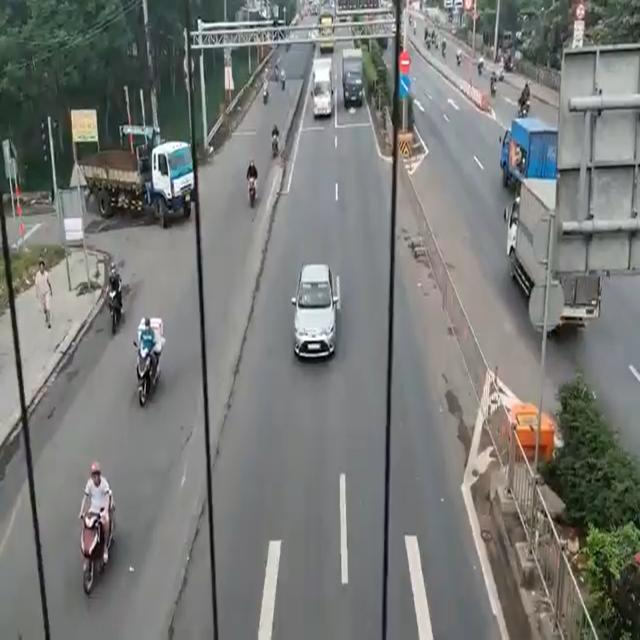car: (297, 252, 328, 361)
motor: (69, 473, 119, 597), (136, 320, 159, 412), (240, 149, 260, 219), (112, 254, 122, 334), (272, 121, 280, 165)
truck: (77, 123, 192, 239), (512, 180, 590, 324), (507, 115, 556, 170), (312, 54, 331, 121), (343, 50, 361, 112)
